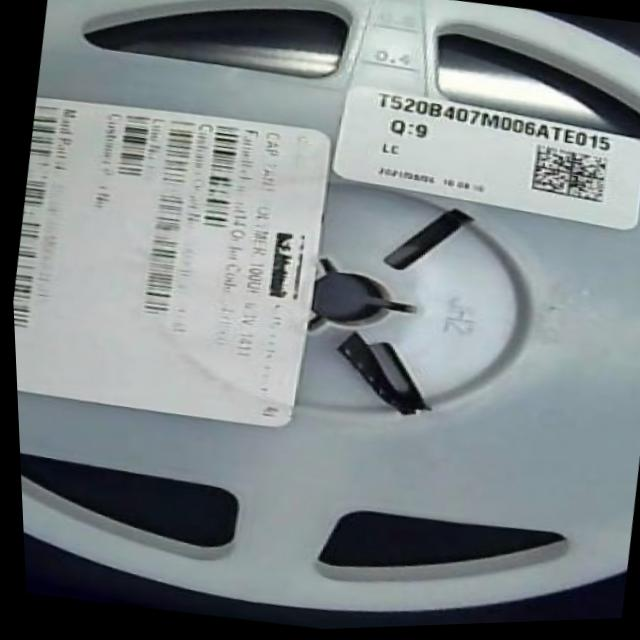datamatrix: (524, 146, 612, 214)
